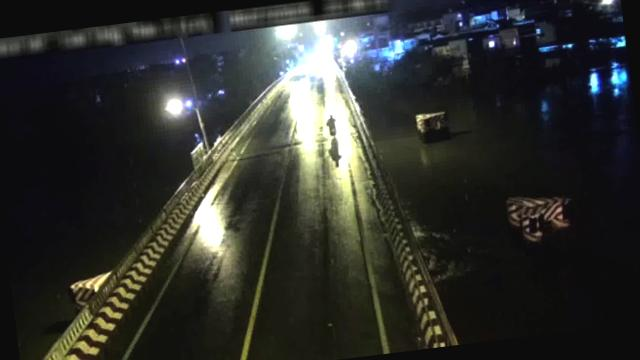Bike: (324, 112, 338, 136)
